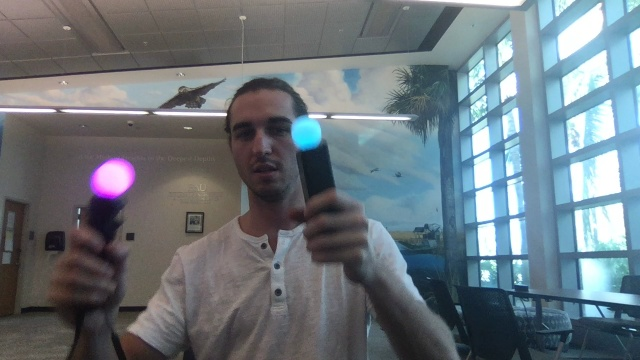wand: (94, 160, 136, 198), (291, 117, 322, 149)
